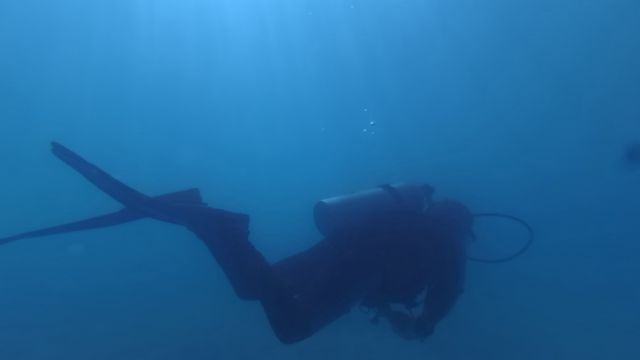Diver: (6, 136, 477, 337)
